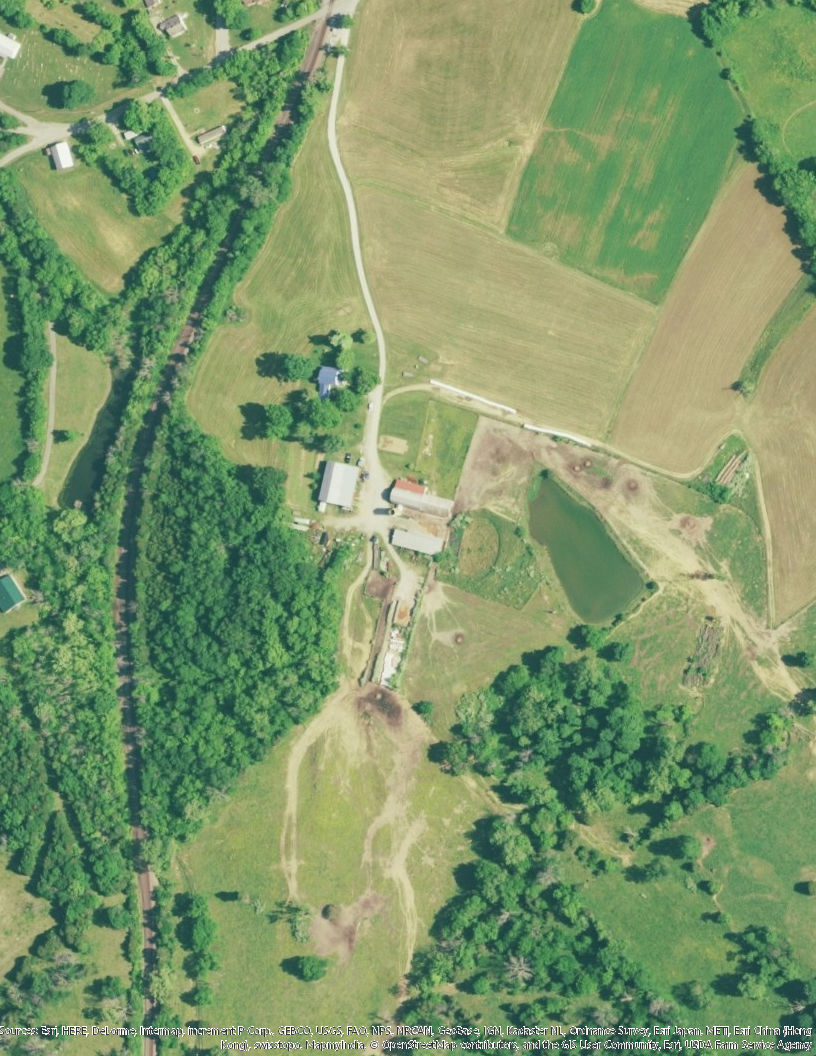cafo: (387, 480, 456, 519), (390, 527, 445, 559)
